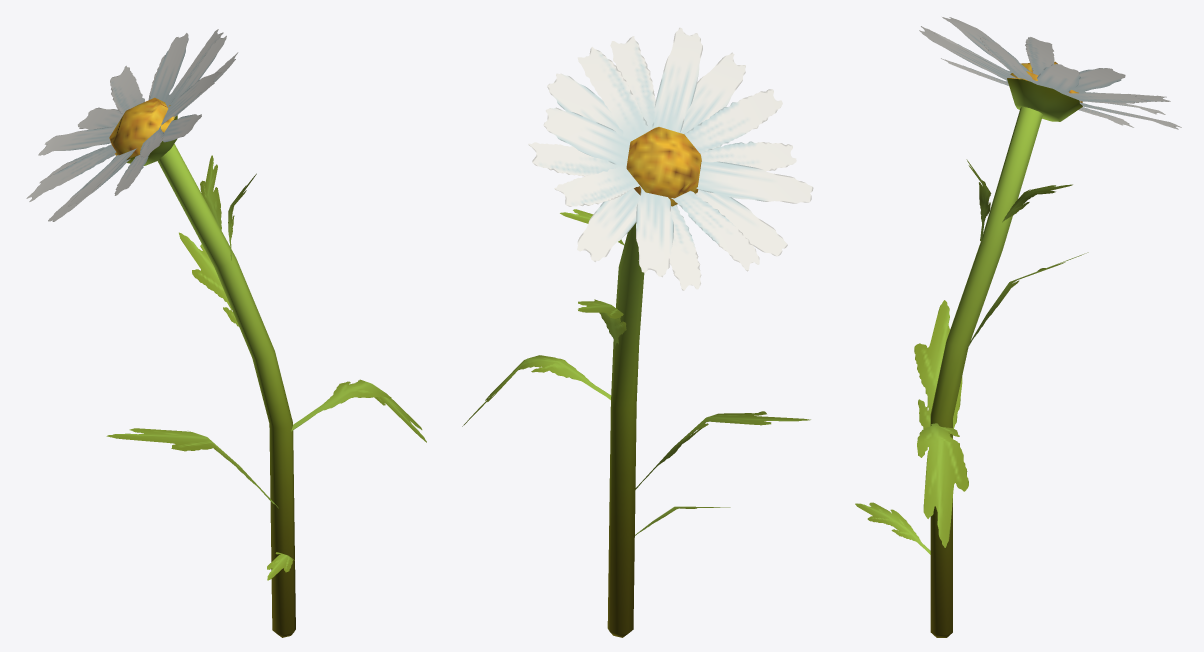
File: DEMOFlowerpack_Daisy_Small.fbx
3 renders of one model, left to right at view 1: azimuth 30°, elevation 25°; view 2: azimuth 150°, elevation 25°; view 3: azimuth 270°, elevation 25°, orthographic. The views are drawn at different scales.
Parts seen in each view (by area): view 1: Daisy_Single; view 2: Daisy_Single; view 3: Daisy_Single.
Part boxes in pixels (x1,y1,x2,y2): Daisy_Single: [26, 29, 426, 637]; Daisy_Single: [462, 27, 813, 637]; Daisy_Single: [855, 17, 1181, 637].
Size of the model in its own units: 49.99 by 39.73 by 78.79.
Materials: 1 (1 with a texture image).
